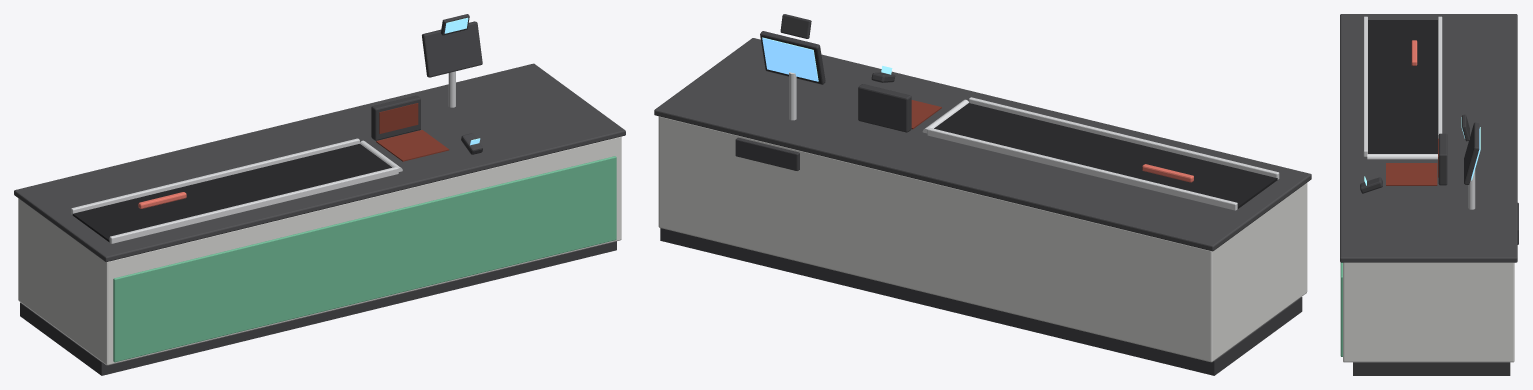
Rendered from checkout.glb.
3 renders of one model, left to right at view 1: azimuth 30°, elevation 25°; view 2: azimuth 150°, elevation 25°; view 3: azimuth 270°, elevation 25°, orthographic. The views are drawn at different scales.
Parts seen in each view (by area): view 1: Cube.002, Cube.003, Cube.001, Cube.004, Cube, Cube.005, Cube.011, Cube.006, Cube.008, Cube.009, Cube.010; view 2: Cube.001, Cube.003, Cube.004, Cube, Cube.006, Cube.005, Cube.009, Cube.012, Cube.017, Cube.011, Cube.013; view 3: Cube.003, Cube.001, Cube.004, Cube, Cube.008, Cube.005, Cube.011, Cube.006, Cube.009, Cylinder, Cube.002, Cylinder.001 (+3 smaller).
Part boxes in pixels (bbox=[...]): Cube.002: bbox=[113, 156, 616, 362]; Cube.003: bbox=[14, 63, 625, 261]; Cube.001: bbox=[18, 136, 621, 365]; Cube.004: bbox=[72, 144, 391, 242]; Cube: bbox=[20, 241, 616, 375]; Cube.005: bbox=[109, 166, 398, 243]; Cube.011: bbox=[422, 21, 482, 77]; Cube.006: bbox=[71, 138, 359, 214]; Cube.008: bbox=[376, 130, 449, 161]; Cube.009: bbox=[371, 95, 420, 140]; Cube.010: bbox=[379, 103, 418, 133]; Cube.001: bbox=[658, 116, 1307, 362]; Cube.003: bbox=[654, 38, 1311, 251]; Cube.004: bbox=[934, 103, 1277, 208]; Cube: bbox=[660, 228, 1302, 375]; Cube.006: bbox=[927, 127, 1237, 210]; Cube.005: bbox=[969, 97, 1279, 179]; Cube.009: bbox=[858, 84, 911, 132]; Cube.012: bbox=[762, 37, 818, 81]; Cube.017: bbox=[735, 137, 799, 170]; Cube.011: bbox=[760, 31, 825, 84]; Cube.013: bbox=[780, 14, 811, 38]; Cube.003: bbox=[1340, 14, 1517, 262]; Cube.001: bbox=[1343, 262, 1514, 362]; Cube.004: bbox=[1368, 20, 1437, 153]; Cube: bbox=[1353, 362, 1510, 375]; Cube.008: bbox=[1386, 163, 1437, 185]; Cube.005: bbox=[1363, 16, 1367, 156]; Cube.011: bbox=[1464, 122, 1479, 184]; Cube.006: bbox=[1438, 16, 1442, 138]; Cube.009: bbox=[1438, 133, 1447, 185]; Cylinder: bbox=[1367, 154, 1437, 159]; Cube.002: bbox=[1340, 262, 1342, 356]; Cylinder.001: bbox=[1468, 169, 1475, 209].
Bounding box in the file's own units: 4.04 × 1.6 × 1.25.
